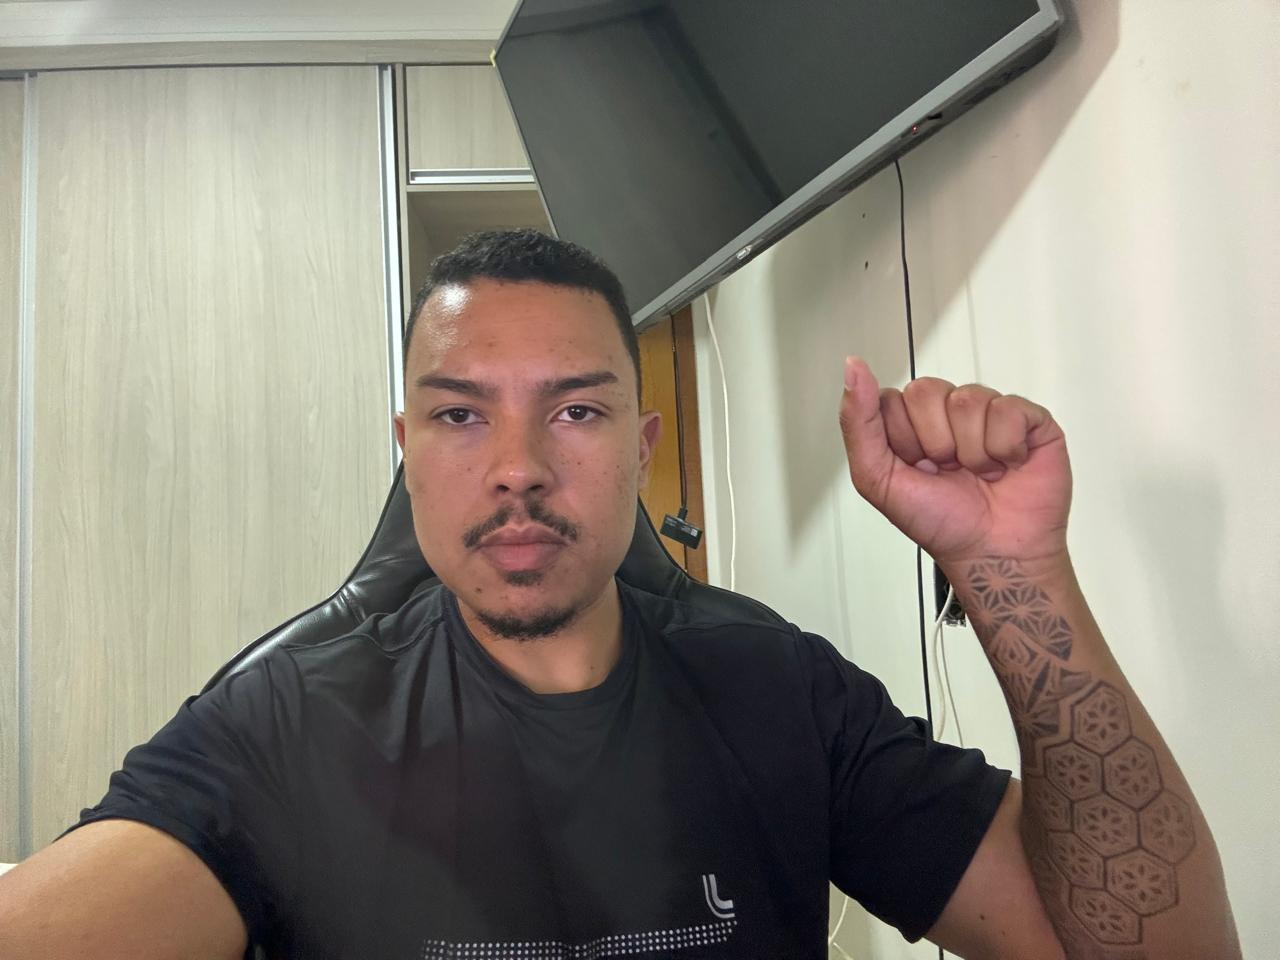a: (833, 351, 1087, 560)
